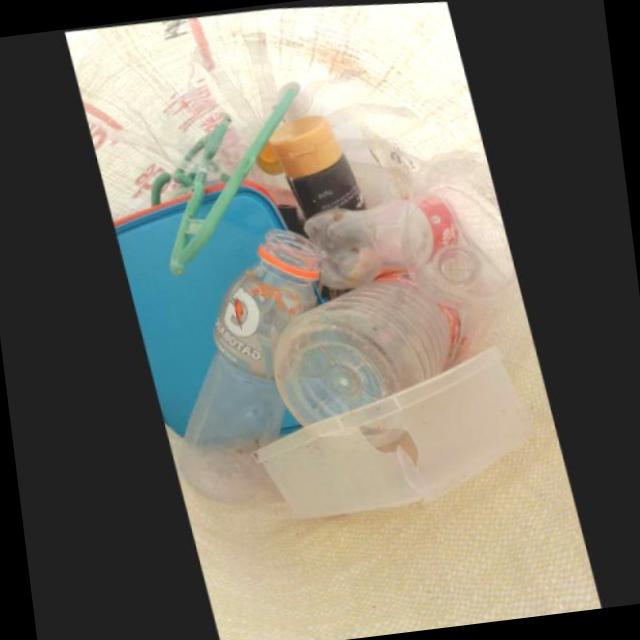chai_nhua_pet: (172, 223, 318, 502), (268, 263, 455, 422), (300, 191, 405, 283)
hop_nhua: (249, 339, 528, 518)
